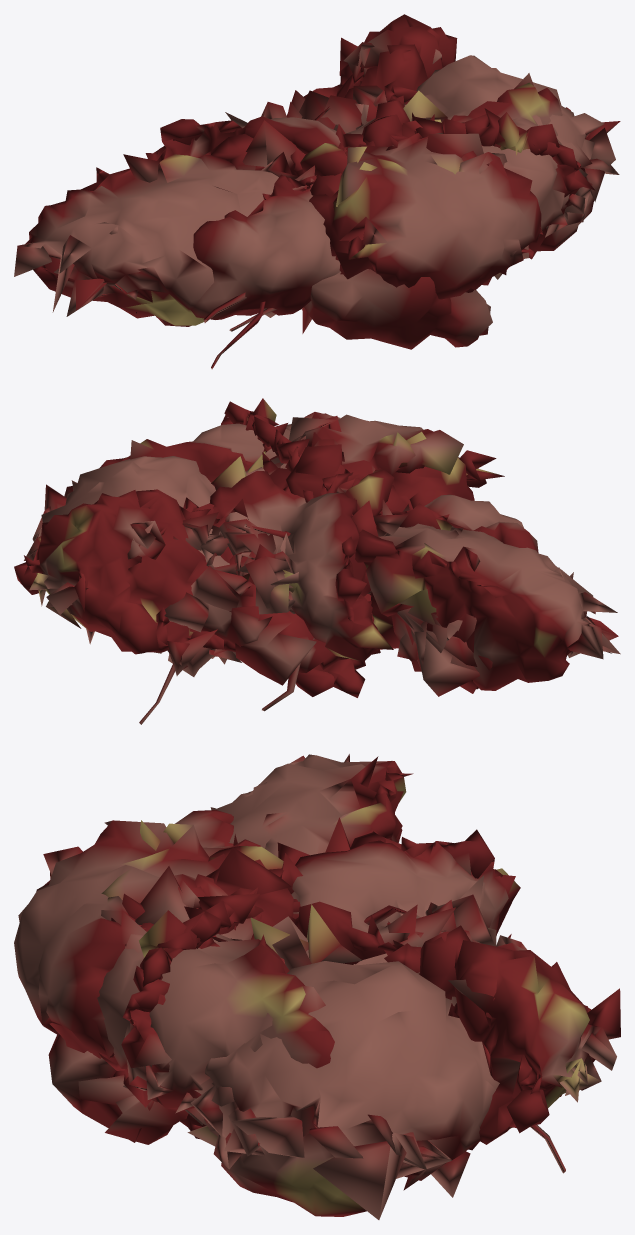
File: meat-chunks.glb
3 renders of one model, top to bottom at view 1: azimuth 30°, elevation 25°; view 2: azimuth 150°, elevation 25°; view 3: azimuth 270°, elevation 25°, orthographic. The views are drawn at different scales.
Parts seen in each view (by area): view 1: Meat1, Meat2, Meat4, Meat0, Meat6, Meat7, Meat5, Meat3; view 2: Meat1, Meat5, Meat6, Meat0, Meat2, Meat7, Meat4, Meat3; view 3: Meat0, Meat2, Meat7, Meat5, Meat1, Meat6, Meat3, Meat4.
Boxes of the visible parts, box(x1,y1,x2,y2) form: Meat1: box(14, 120, 492, 349); Meat2: box(309, 124, 542, 299); Meat4: box(190, 143, 346, 319); Meat0: box(211, 55, 620, 369); Meat6: box(145, 85, 417, 331); Meat7: box(314, 73, 587, 259); Meat5: box(301, 14, 457, 310); Meat3: box(290, 108, 595, 205); Meat1: box(139, 499, 620, 724); Meat5: box(14, 489, 235, 676); Meat6: box(183, 471, 393, 661); Meat0: box(24, 451, 595, 685); Meat2: box(286, 412, 504, 511); Meat7: box(100, 423, 365, 697); Meat4: box(349, 465, 538, 553); Meat3: box(221, 398, 352, 612); Meat0: box(175, 846, 511, 1219); Meat2: box(14, 820, 302, 1070); Meat7: box(97, 847, 406, 1125); Meat5: box(393, 925, 620, 1150); Meat1: box(43, 754, 565, 1173); Meat6: box(280, 829, 520, 974); Meat3: box(121, 887, 300, 1072); Meat4: box(175, 810, 265, 867).
Bounding box in the file's own units: 1.33 × 0.4761 × 0.9198.
